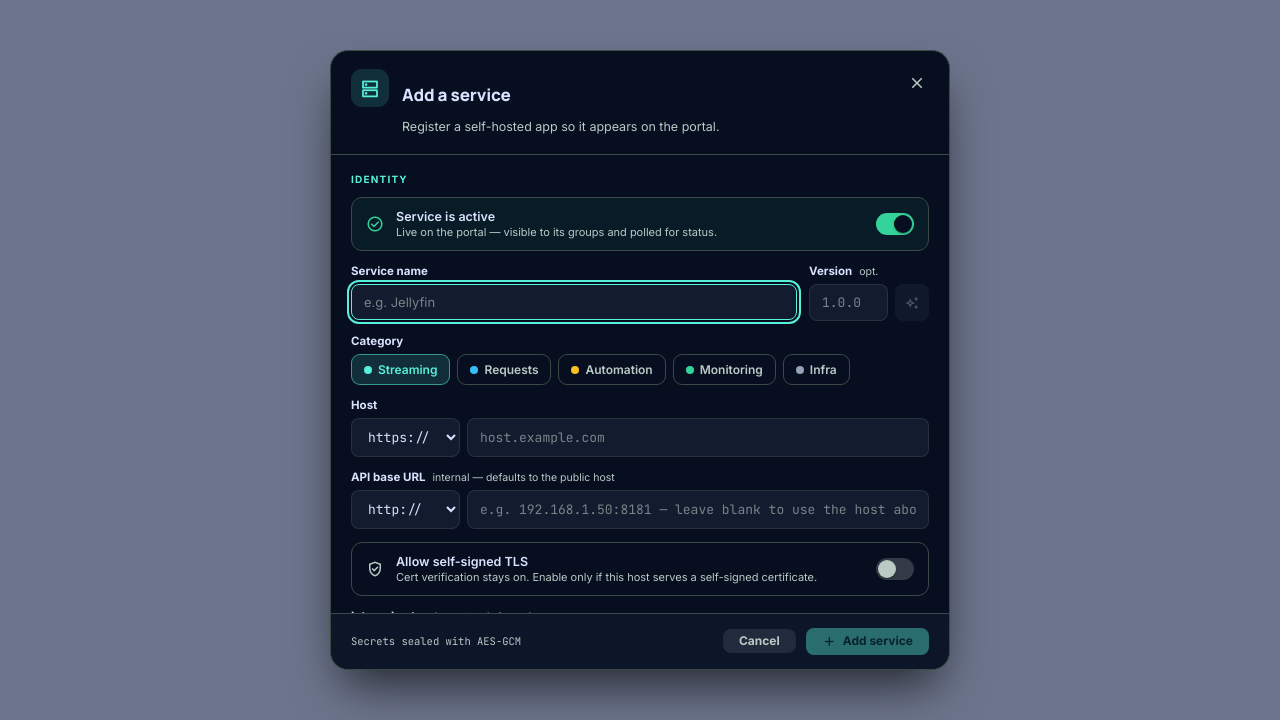
Test: ServiceModal — userpass secret validation › warns when a userpass service's key omits the ':' separator
Type "qbittorrent" into the field with placeholder "e.g. Jellyfin". click: (574, 302)
box: [351,284,797,320]
(page scrolled)
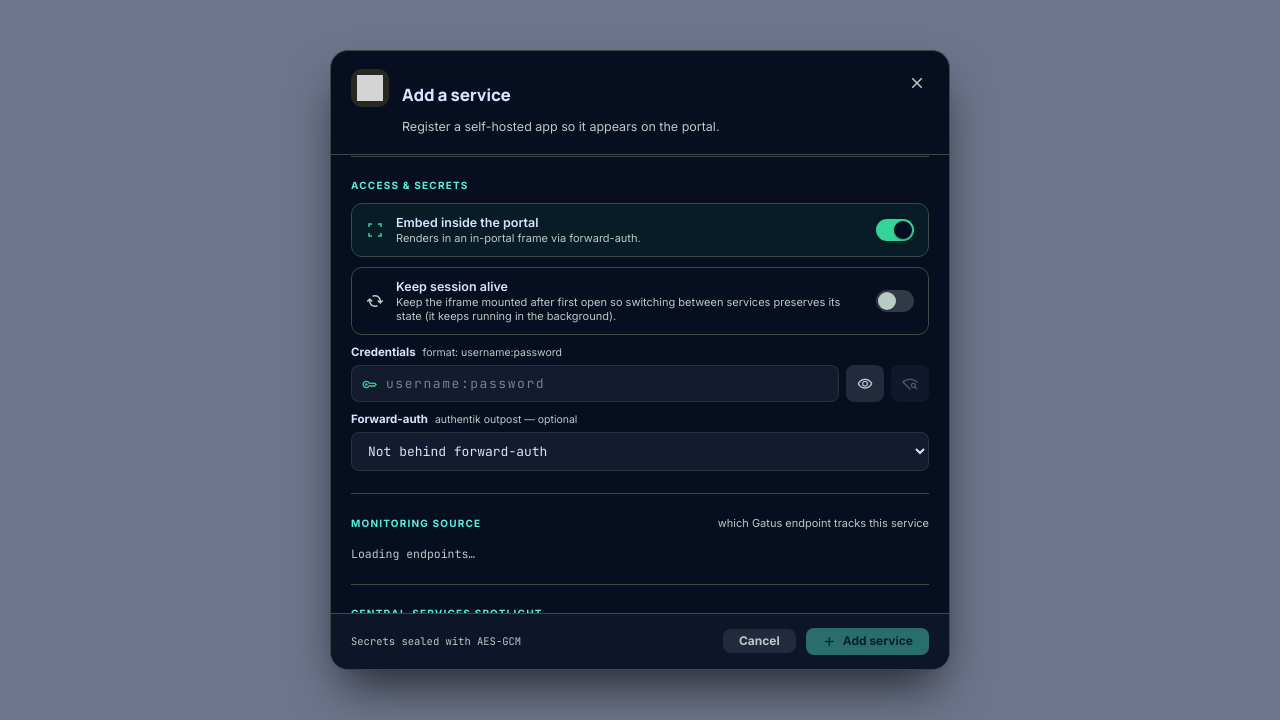
Type "justuser" into the password field with placeholder "username:password". click: (595, 384)
box: [351,365,839,402]
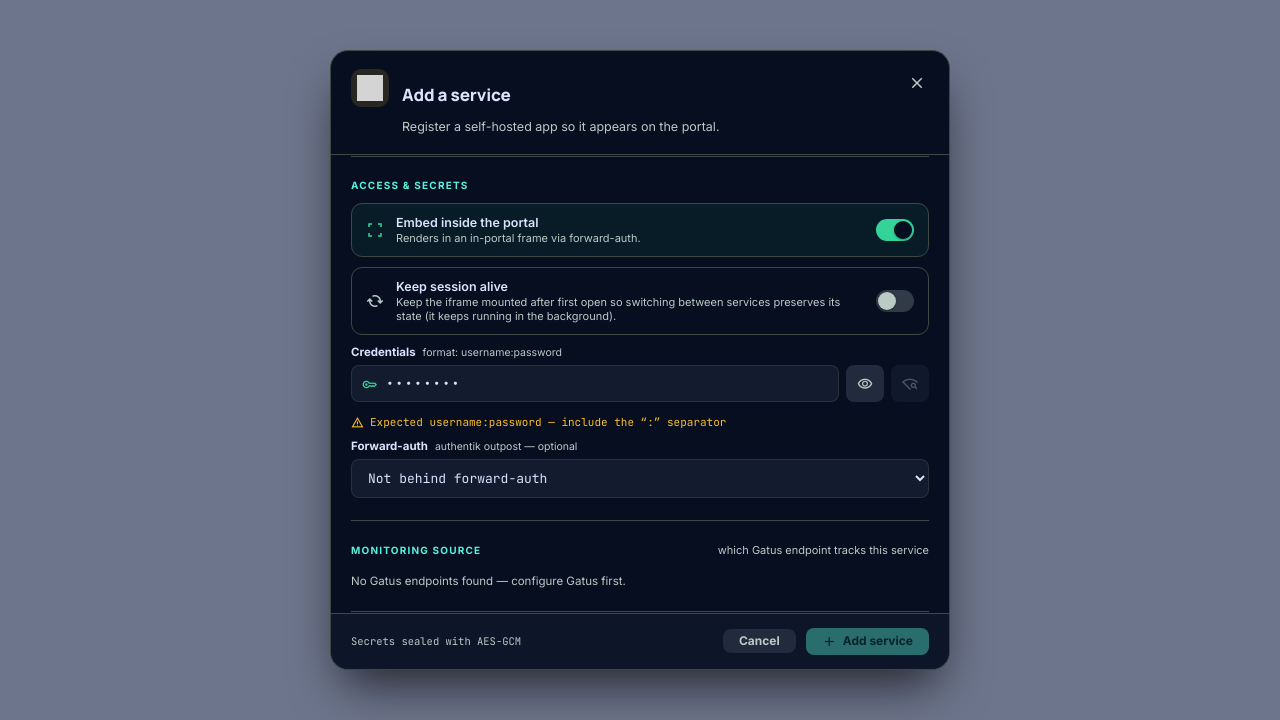
Expected: the text "Expected username:password — include the “:” separator" is shown, [370,415,726,429]
